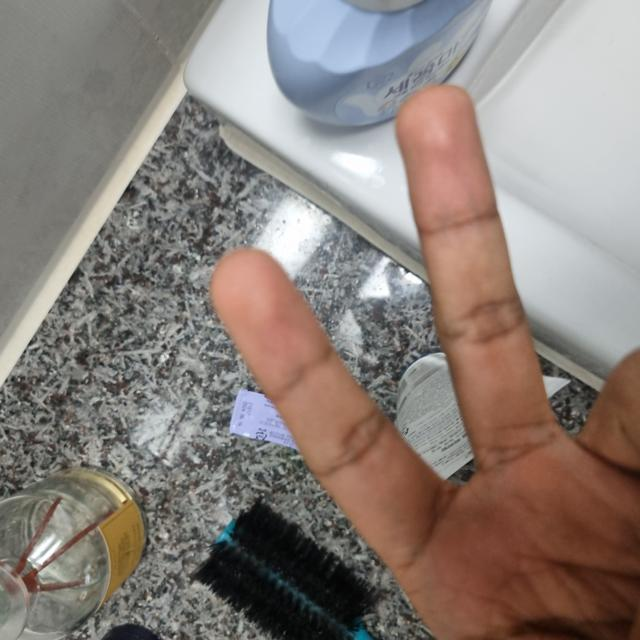Scissors: (0, 206, 403, 640)
